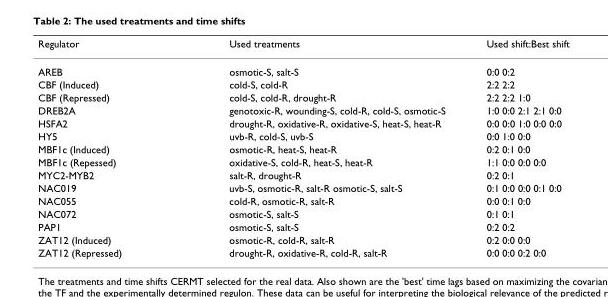table: (37, 37, 568, 258)
table column: (174, 37, 465, 258), (37, 37, 174, 258), (465, 37, 568, 258)
table column header: (37, 37, 568, 57)
table row: (37, 37, 568, 57), (37, 57, 568, 77), (37, 77, 568, 90), (37, 90, 568, 103), (37, 103, 568, 116), (37, 116, 568, 129), (37, 129, 568, 142), (37, 142, 568, 155), (37, 155, 568, 168), (37, 168, 568, 181), (37, 181, 568, 194), (37, 206, 568, 219), (37, 219, 568, 232), (37, 232, 568, 245), (37, 245, 568, 258), (37, 194, 568, 206)
